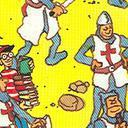waldo: (0, 41, 21, 98)
